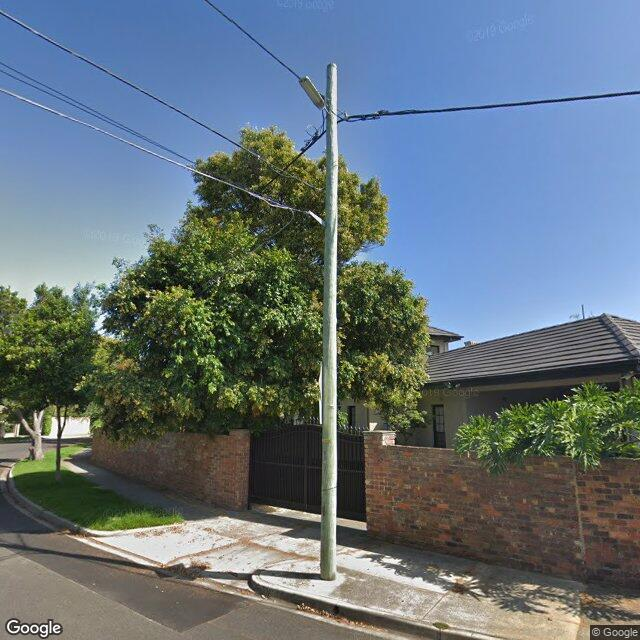streetlight: (298, 76, 332, 116)
timber-pole: (320, 62, 339, 580)
